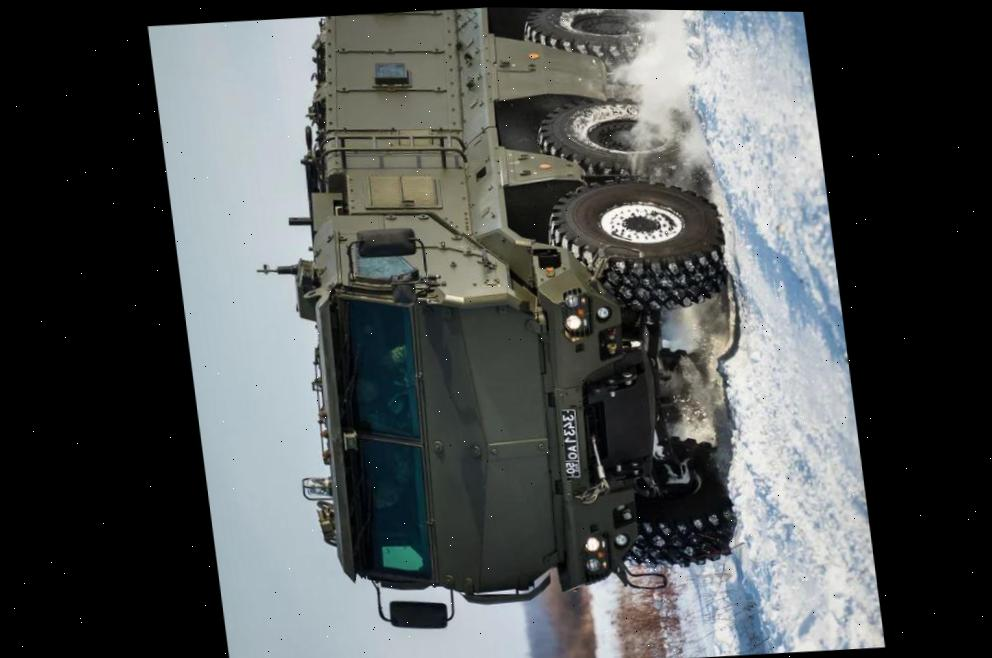tank: (218, 3, 775, 644)
